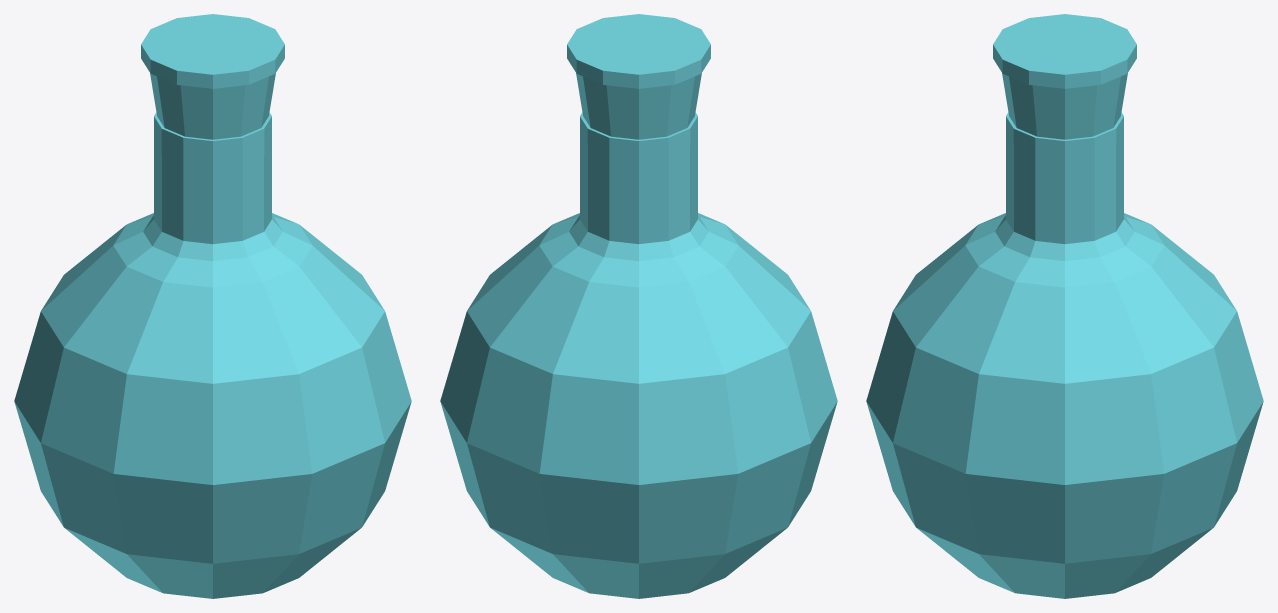
File: SM_Flask_3_B.gltf
The picture shows the model from 3 angles, left to right: view 1: azimuth 30°, elevation 25°; view 2: azimuth 150°, elevation 25°; view 3: azimuth 270°, elevation 25°; orthographic projection.
Parts seen in each view (by area): view 1: SM_Flask_3_B, SM_Flask_Lid_B; view 2: SM_Flask_3_B, SM_Flask_Lid_B; view 3: SM_Flask_3_B, SM_Flask_Lid_B.
Boxes of the visible parts, bbox=[...] form: SM_Flask_3_B: bbox=[14, 112, 411, 598]; SM_Flask_Lid_B: bbox=[141, 14, 284, 139]; SM_Flask_3_B: bbox=[440, 112, 837, 598]; SM_Flask_Lid_B: bbox=[567, 14, 710, 139]; SM_Flask_3_B: bbox=[866, 112, 1263, 598]; SM_Flask_Lid_B: bbox=[993, 14, 1136, 139].
Size of the model in its own units: 0.2142 by 0.316 by 0.2142.
